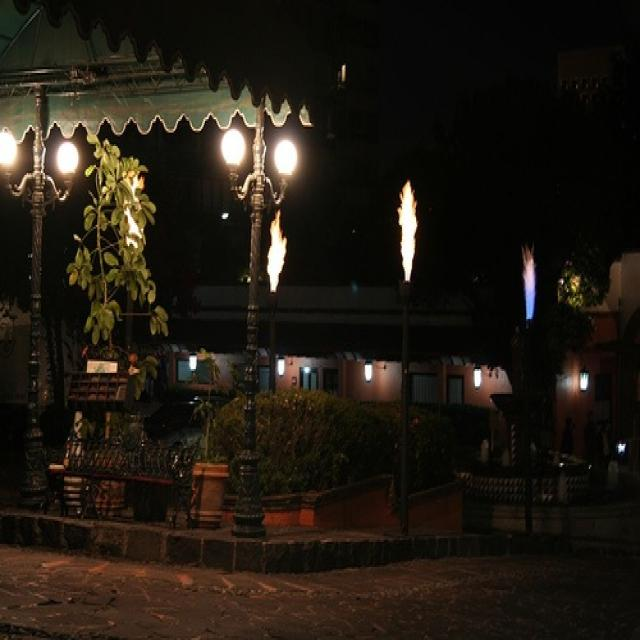pottedplant: (67, 130, 172, 374), (186, 397, 232, 531)
